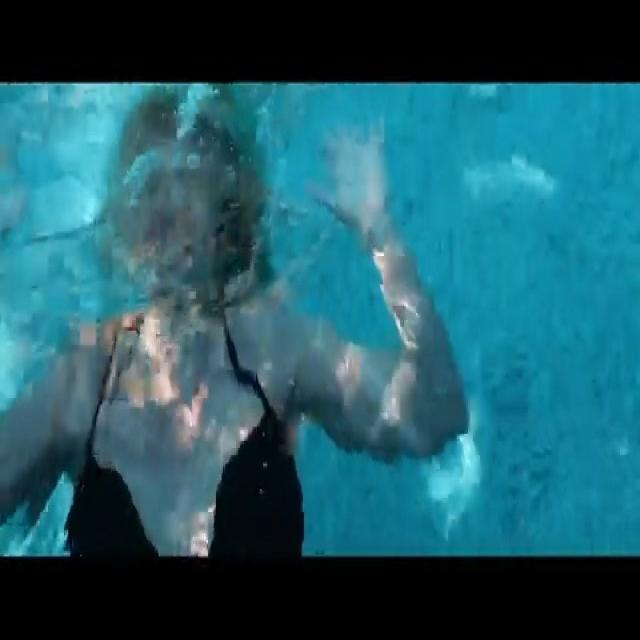Drowning: (2, 88, 482, 558)
